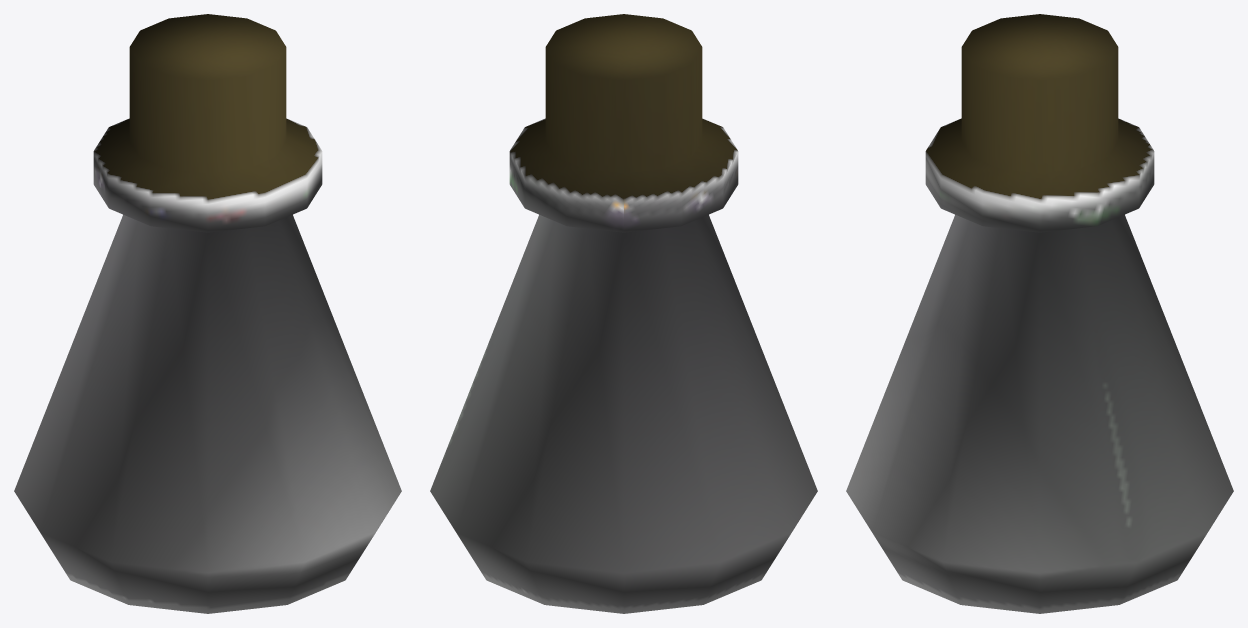
File: Potion2.fbx
The picture shows the model from 3 angles, left to right: view 1: azimuth 30°, elevation 25°; view 2: azimuth 150°, elevation 25°; view 3: azimuth 270°, elevation 25°; orthographic projection.
Parts seen in each view (by area): view 1: Cylinder.009; view 2: Cylinder.009; view 3: Cylinder.009.
Part boxes in pixels (x1,y1,x2,y2): Cylinder.009: (14, 14, 401, 613); Cylinder.009: (430, 14, 817, 613); Cylinder.009: (846, 14, 1233, 613).
Size of the model in its own units: 39.7 by 56.43 by 39.7.
